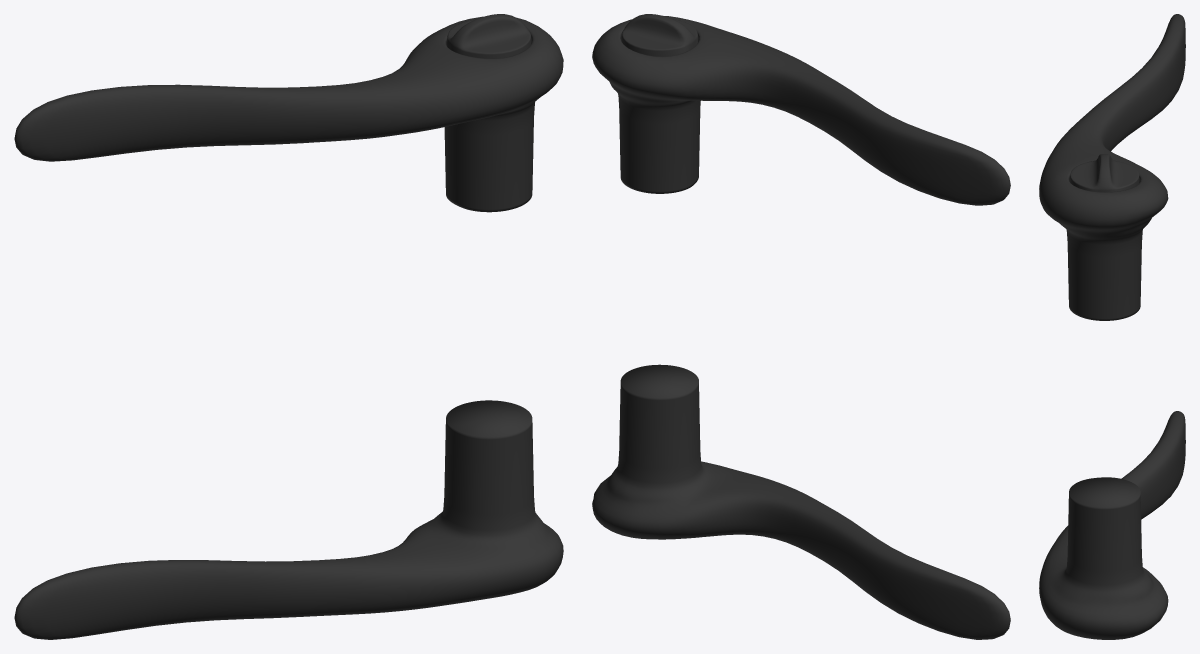
File: exterior_door_handle.obj
3 views of the same model, side by side, from view 1: azimuth 30°, elevation 25°; view 2: azimuth 150°, elevation 25°; view 3: azimuth 270°, elevation 25° (orthographic). The views are drawn at different scales.
Visible parts, largest first — view 1: exterior_door_handle_Cube.011; view 2: exterior_door_handle_Cube.011; view 3: exterior_door_handle_Cube.011.
Boxes of the visible parts, x1=… form: exterior_door_handle_Cube.011: x1=14, y1=14, x2=563, y2=639; exterior_door_handle_Cube.011: x1=592, y1=14, x2=1010, y2=639; exterior_door_handle_Cube.011: x1=1039, y1=14, x2=1185, y2=639.
Size of the model in its own units: 0.1649 by 0.1789 by 0.0512.
Materials: 1 (1 with a texture image).
